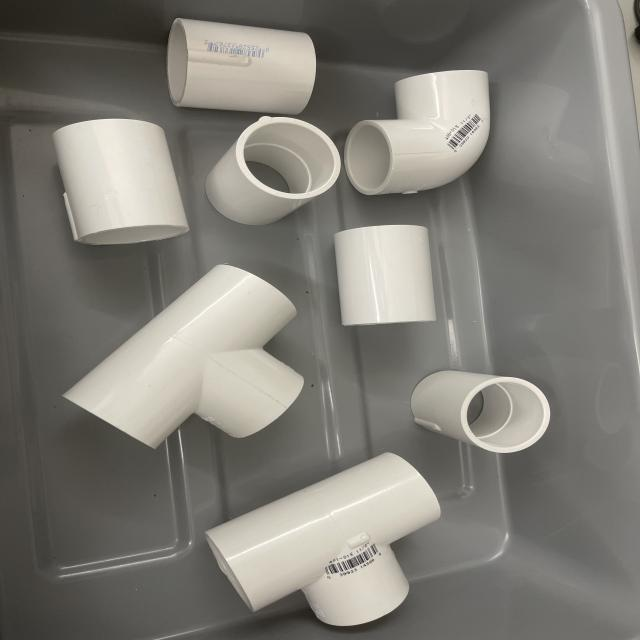L Joint: (342, 70, 493, 199)
T Joint: (61, 264, 304, 452), (204, 452, 442, 625)
